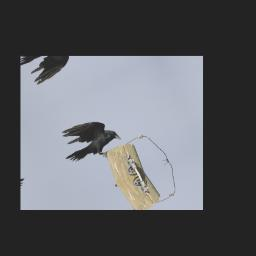Crow: (52, 109, 126, 174)
